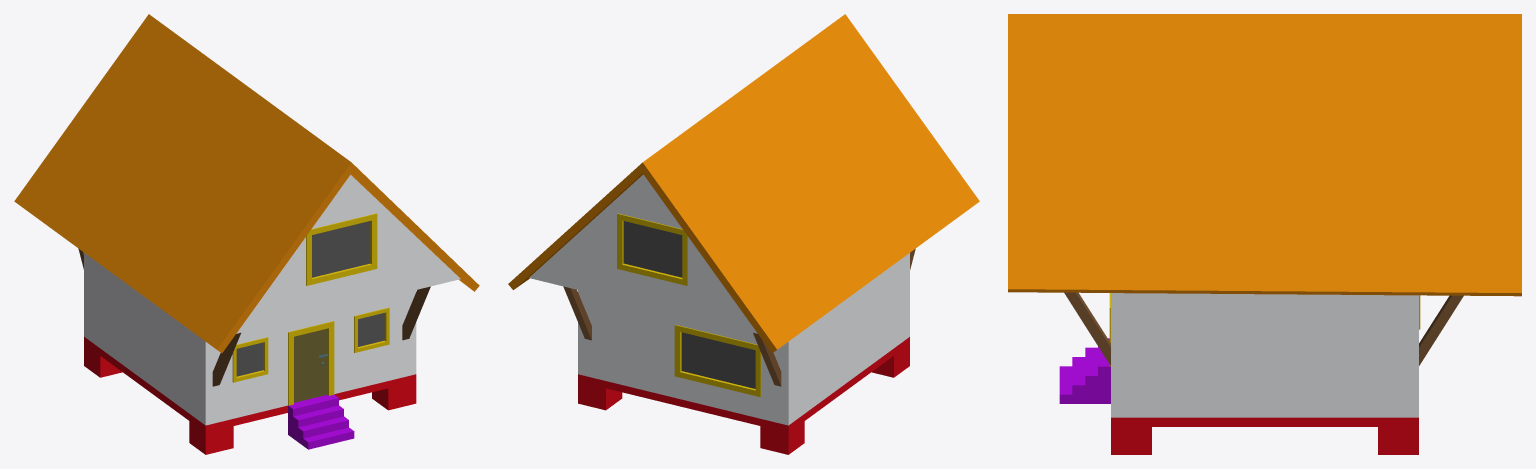
Rendered from Randomhouse2.fbx.
The picture shows the model from 3 angles, left to right: view 1: azimuth 30°, elevation 25°; view 2: azimuth 150°, elevation 25°; view 3: azimuth 270°, elevation 25°; orthographic projection. The views are drawn at different scales.
Visible parts, largest first — view 1: Randomhouse2, Windows, Door; view 2: Randomhouse2, Windows; view 3: Randomhouse2.
Boxes of the visible parts, x1=… form: Randomhouse2: x1=14, y1=14, x2=479, y2=454; Windows: x1=236, y1=221, x2=384, y2=376; Door: x1=294, y1=328, x2=327, y2=402; Randomhouse2: x1=508, y1=14, x2=979, y2=454; Windows: x1=623, y1=221, x2=755, y2=388; Randomhouse2: x1=1008, y1=14, x2=1521, y2=454.
Bounding box in the file's own units: 767 × 807 × 1000.
